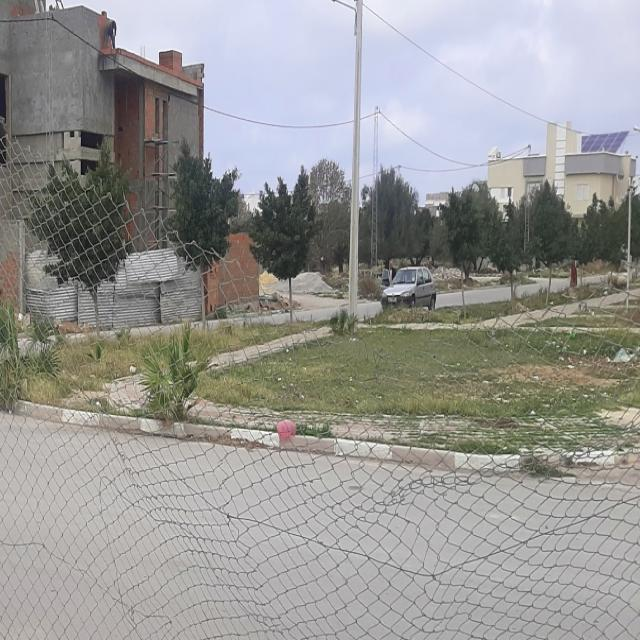fence line: (166, 204, 607, 426)
